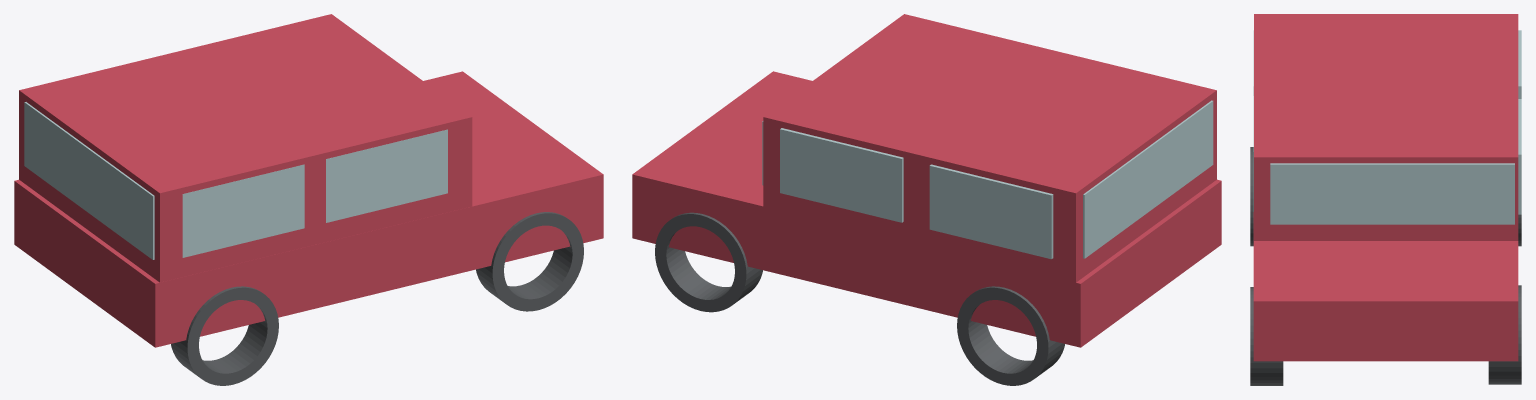
The model's file is cocheRojoCubo.glb.
The picture shows the model from 3 angles, left to right: view 1: azimuth 30°, elevation 25°; view 2: azimuth 150°, elevation 25°; view 3: azimuth 270°, elevation 25°; orthographic projection. The views are drawn at different scales.
Visible parts, largest first — view 1: Mesh_Mesh_head_geo.001_lambert2SG.001; view 2: Mesh_Mesh_head_geo.001_lambert2SG.001; view 3: Mesh_Mesh_head_geo.001_lambert2SG.001.
Part boxes in pixels (x1,y1,x2,y2): Mesh_Mesh_head_geo.001_lambert2SG.001: (14,14,603,385); Mesh_Mesh_head_geo.001_lambert2SG.001: (632,14,1221,385); Mesh_Mesh_head_geo.001_lambert2SG.001: (1250,14,1521,385).
Size of the model in its own units: 0.147 by 0.065 by 0.082.
